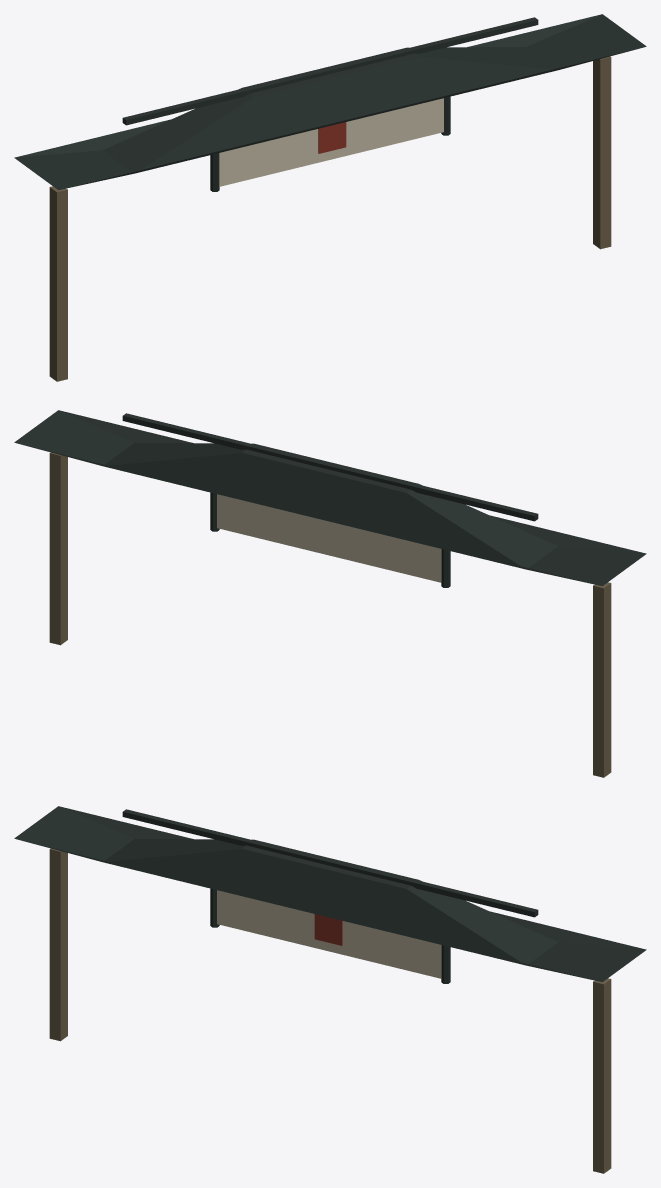
Rendered from finish_scroll.glb.
The picture shows the model from 3 angles, top to bottom: view 1: azimuth 30°, elevation 25°; view 2: azimuth 150°, elevation 25°; view 3: azimuth 330°, elevation 25°; orthographic projection.
Parts seen in each view (by area): view 1: finish_scroll; view 2: finish_scroll; view 3: finish_scroll.
Boxes of the visible parts, x1,y1,x2,y2 form: finish_scroll: [14, 14, 646, 381]; finish_scroll: [14, 410, 646, 777]; finish_scroll: [14, 806, 646, 1173].
Size of the model in its own units: 13 by 5.12 by 1.7.
